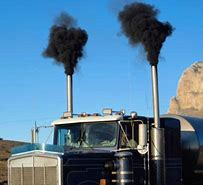smoke: (117, 1, 174, 65), (43, 13, 89, 75)
